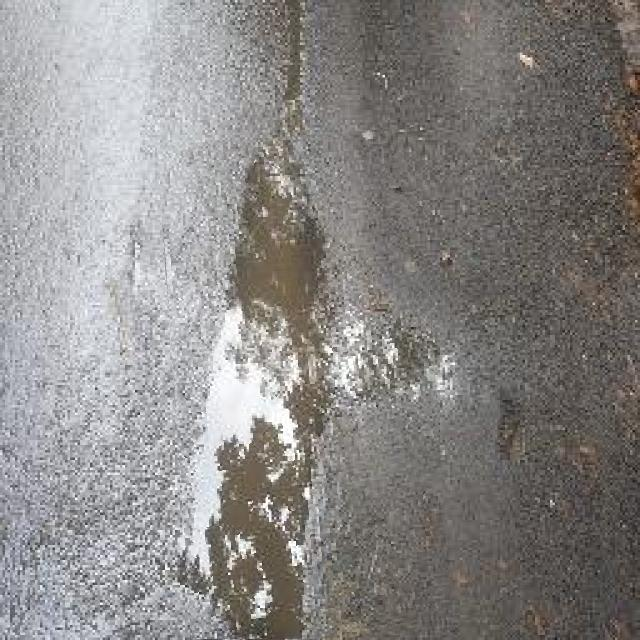puddle: (166, 132, 445, 640)
